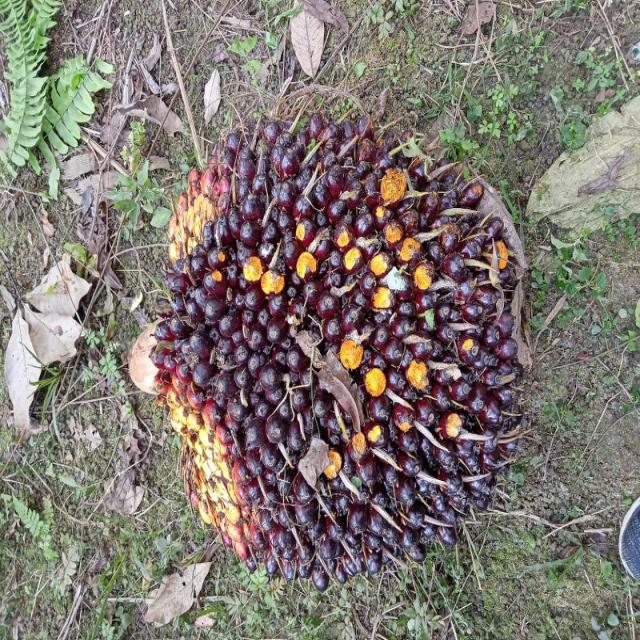fraksi 00: (159, 99, 522, 586)
